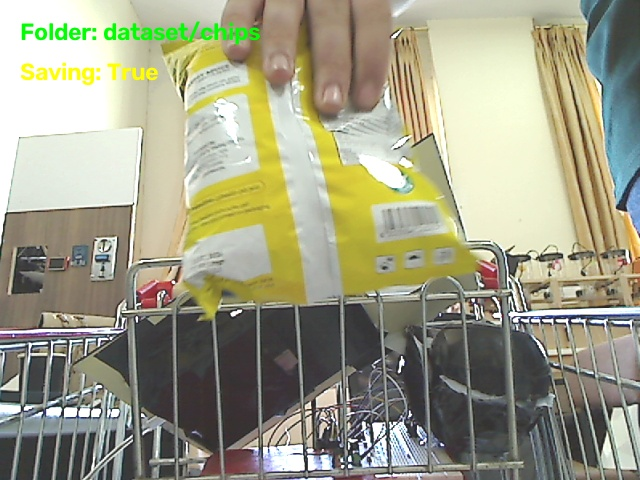chips: (163, 35, 475, 316)
